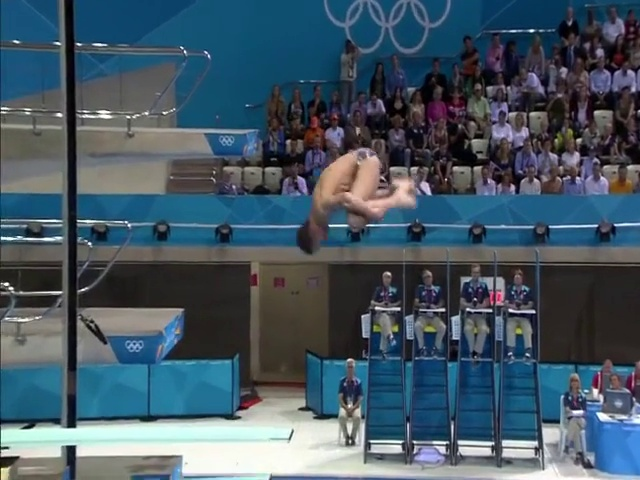diver: (297, 147, 417, 256)
